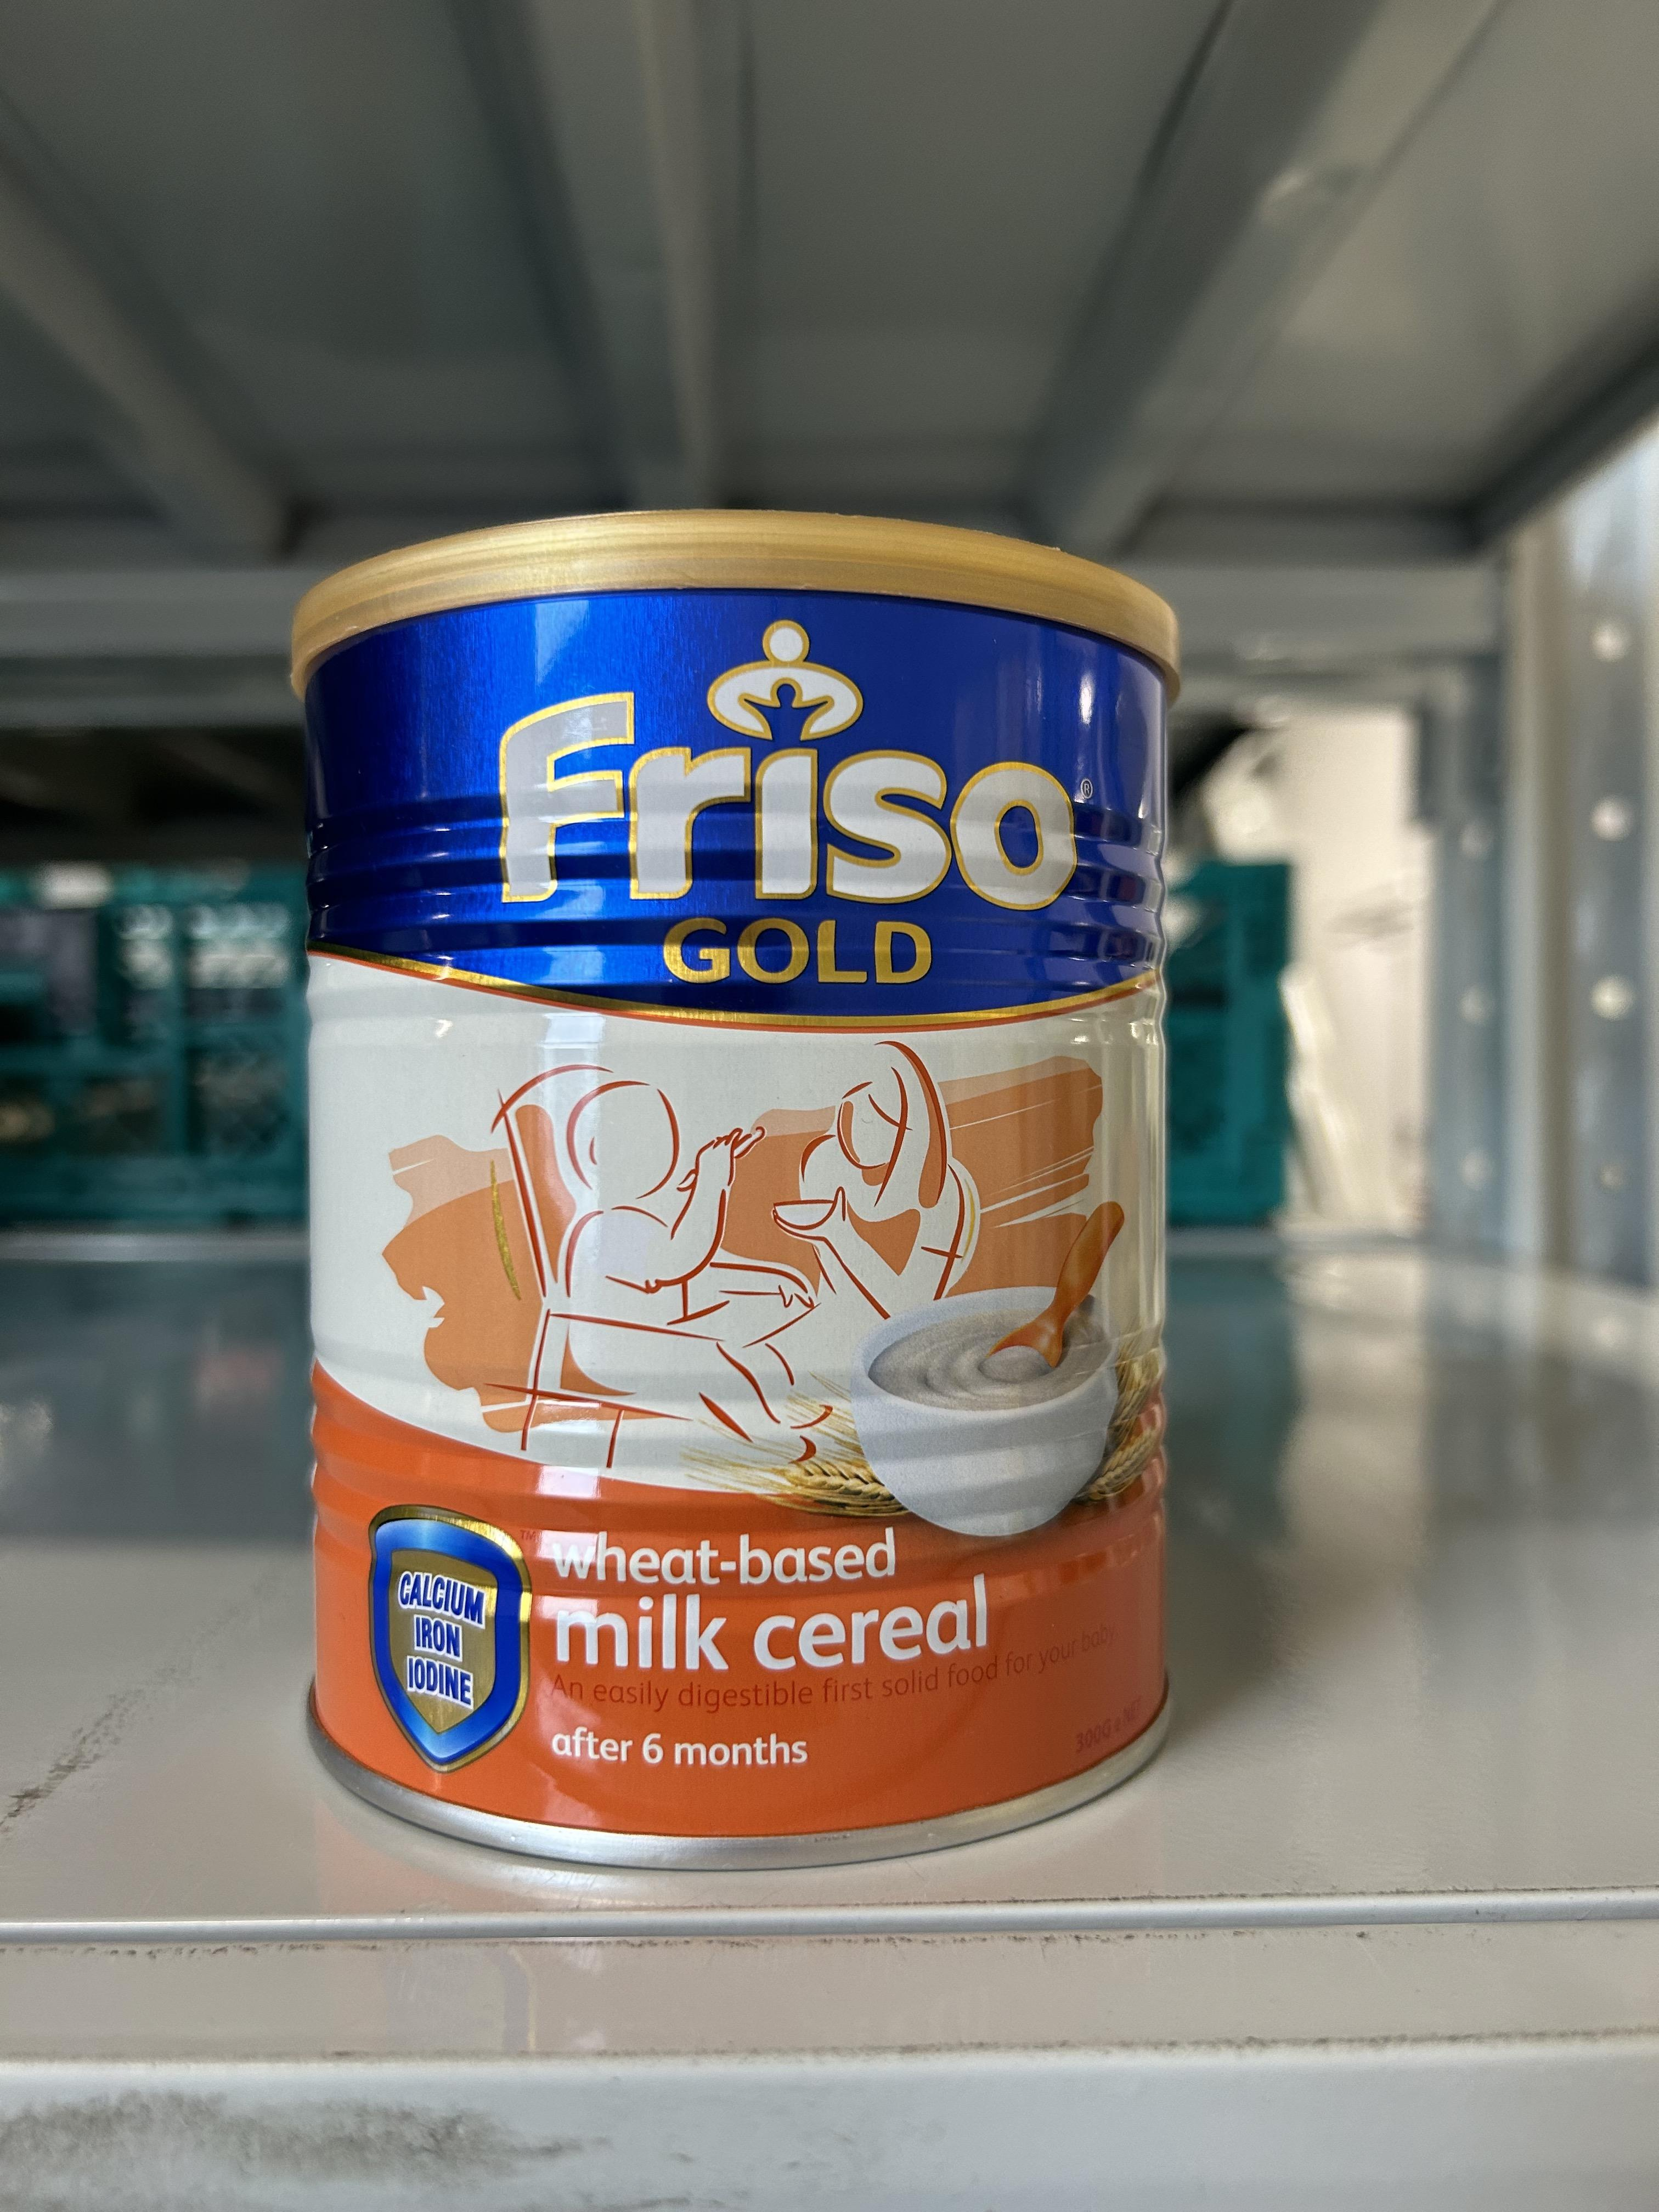object_name: (321, 596, 1166, 1782)
